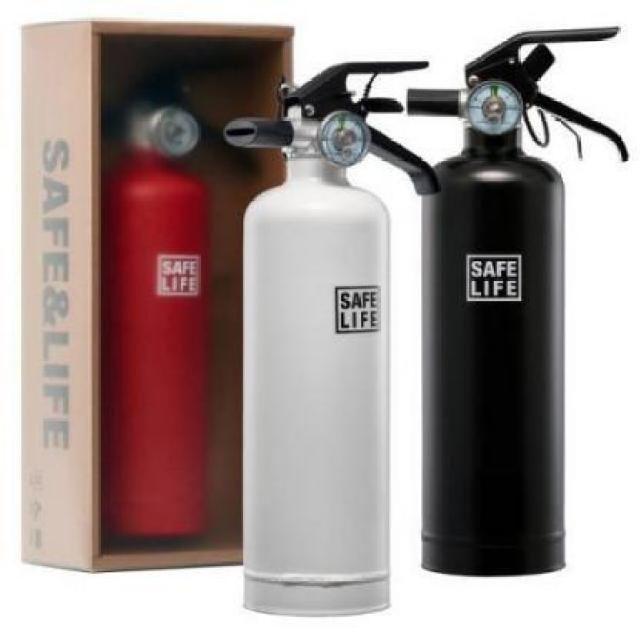fire extinguisher: (405, 26, 630, 577), (221, 59, 442, 618)
